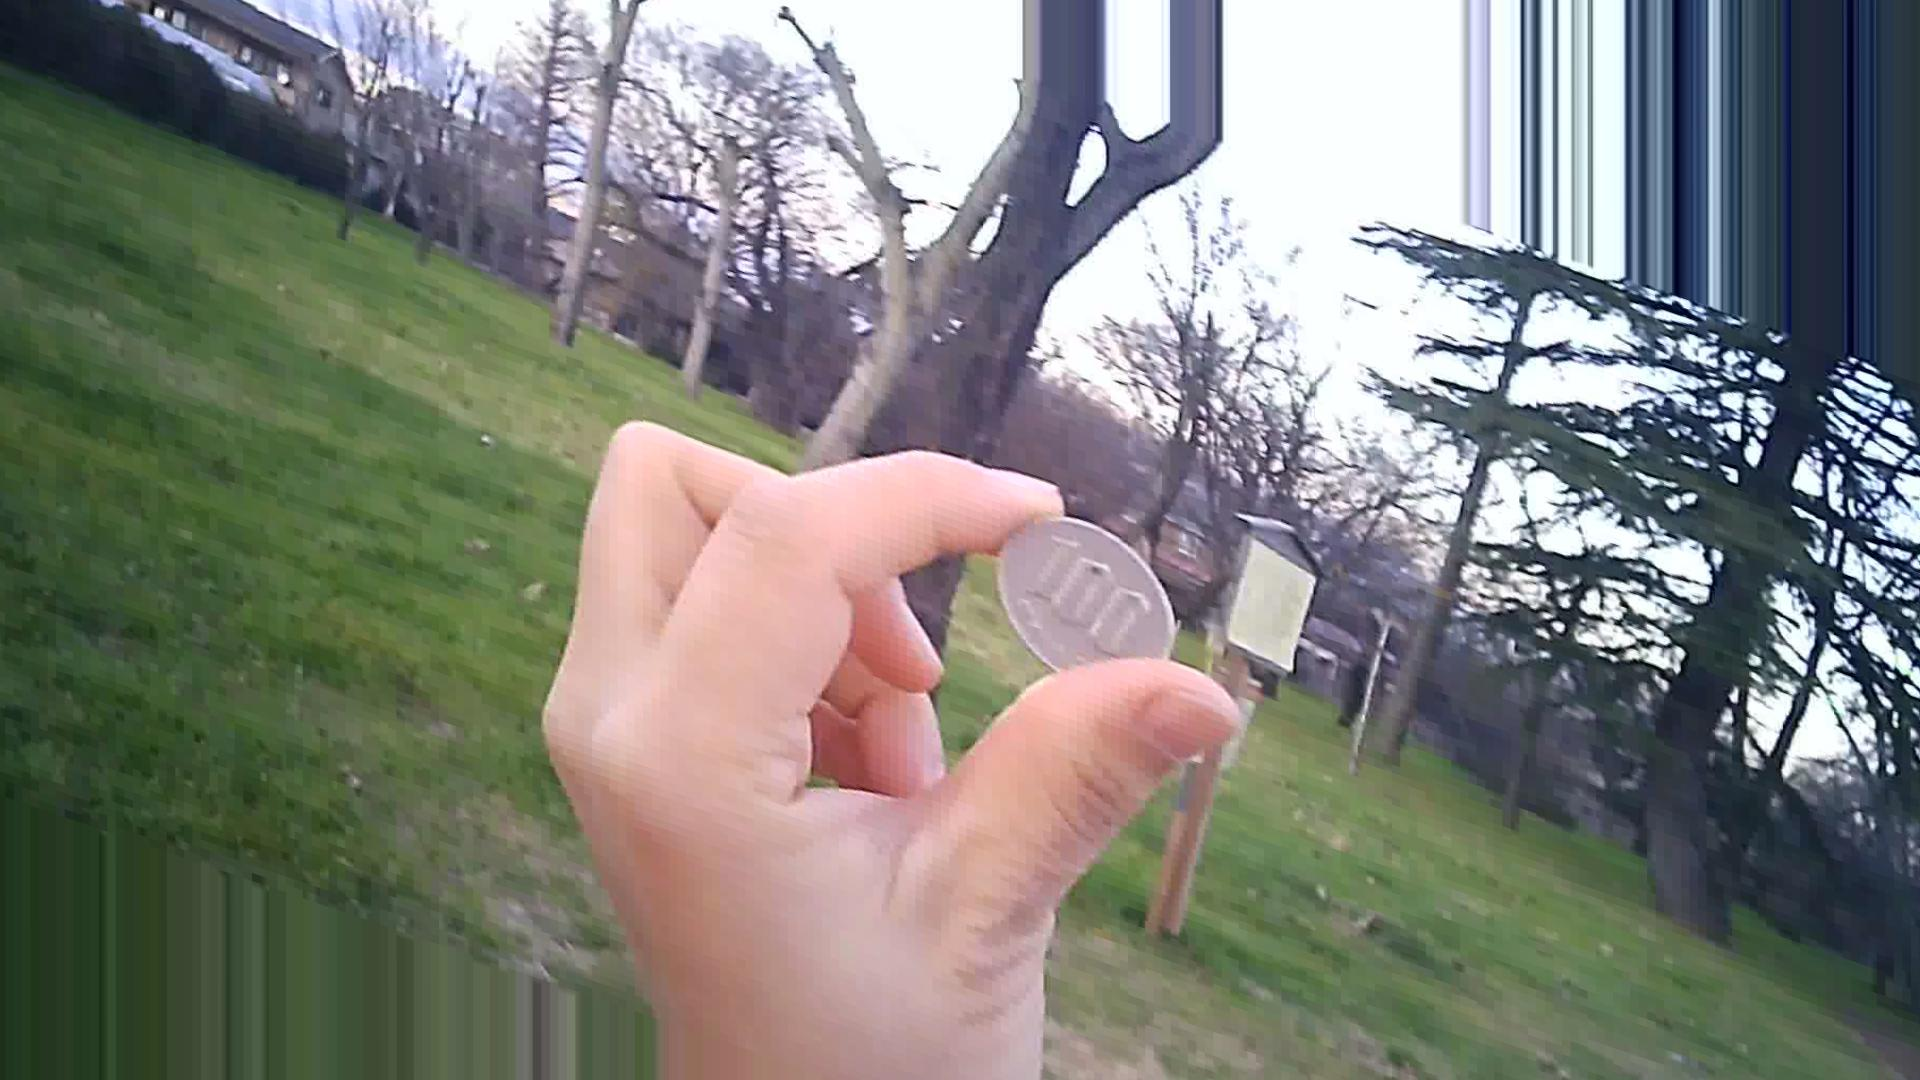100 Yen: (992, 502, 1197, 686)
